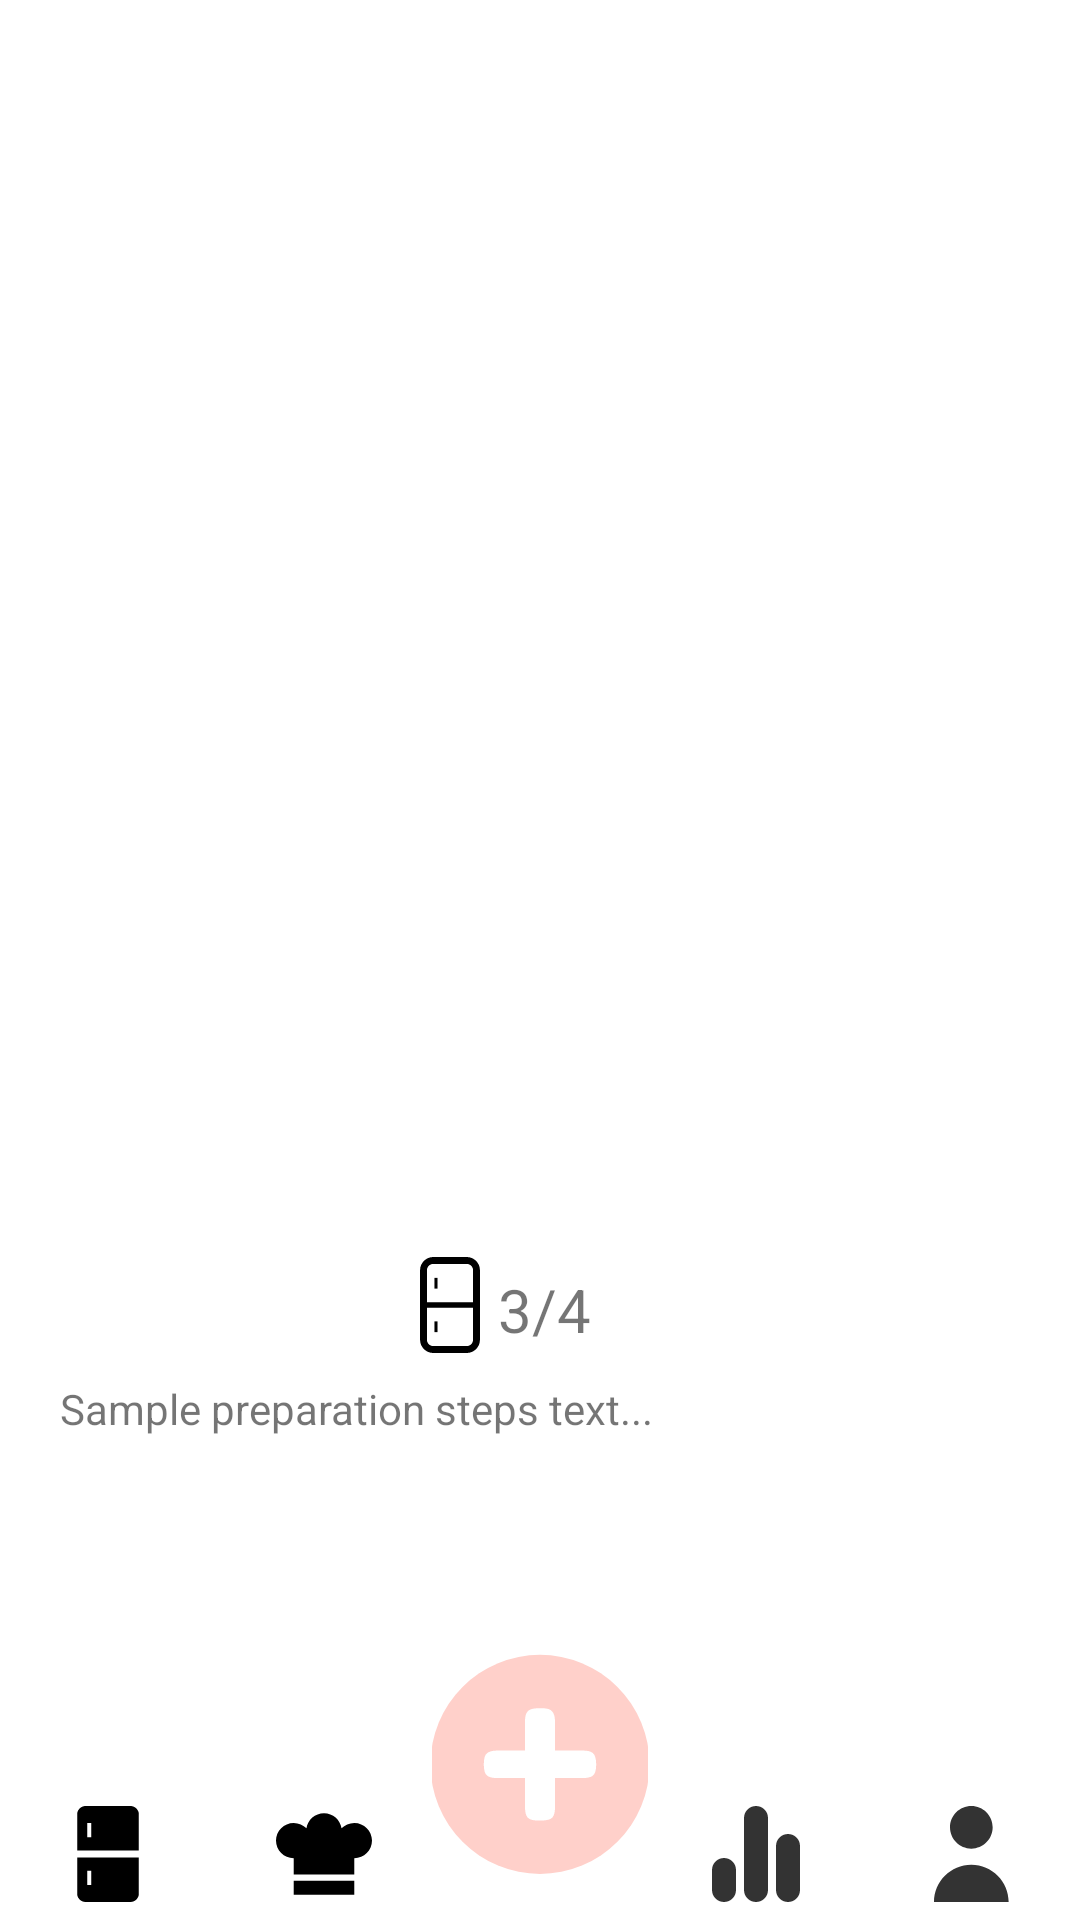

Screen size 1080w x 1920h. Icon name, then its center in pixels as point (x, y):
chef: point (324, 1854)
fridge: point (108, 1854)
fridge empty: point (450, 1305)
profile: point (971, 1854)
stats: point (756, 1854)
